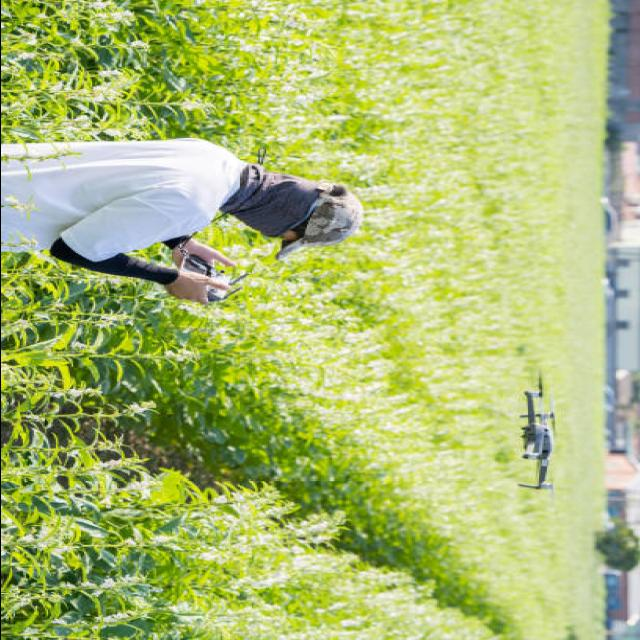drone: (518, 373, 557, 492)
